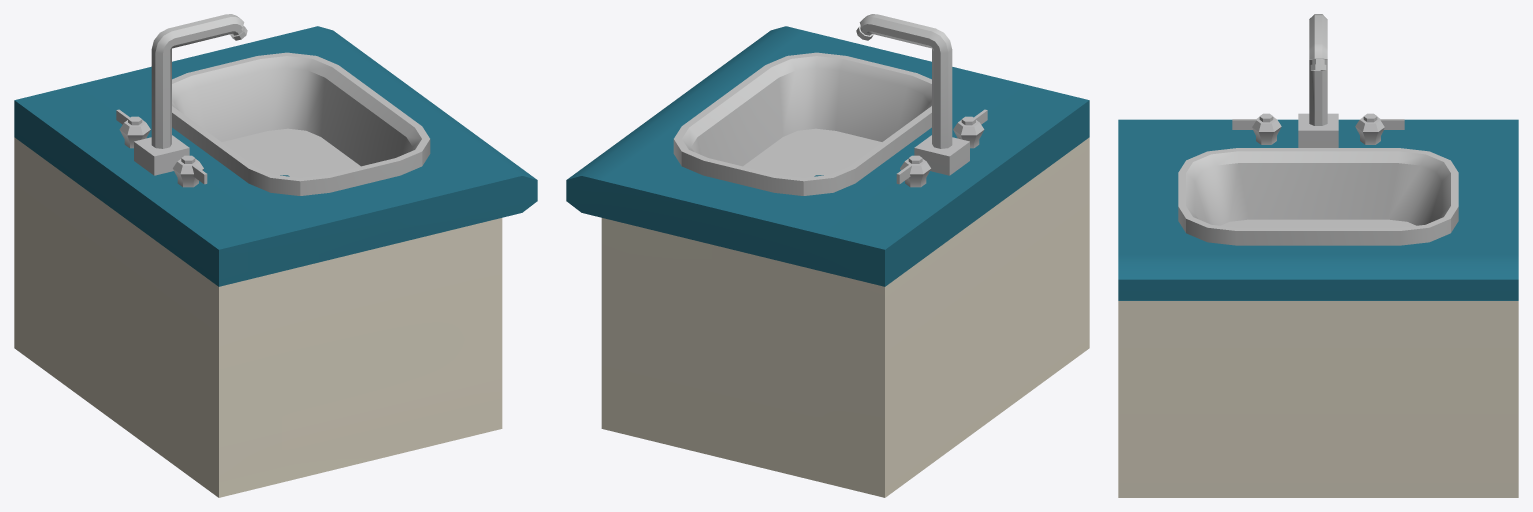
File: Sink.glb
The picture shows the model from 3 angles, left to right: view 1: azimuth 30°, elevation 25°; view 2: azimuth 150°, elevation 25°; view 3: azimuth 270°, elevation 25°; orthographic projection. The views are drawn at different scales.
Visible parts, largest first — view 1: Sink; view 2: Sink; view 3: Sink.
Part boxes in pixels (x1,y1,x2,y2): Sink: (14, 14, 537, 497); Sink: (566, 14, 1089, 497); Sink: (1118, 14, 1518, 497).
Size of the model in its own units: 0.9 by 1.03 by 1.
Materials: 1 (1 with a texture image).
